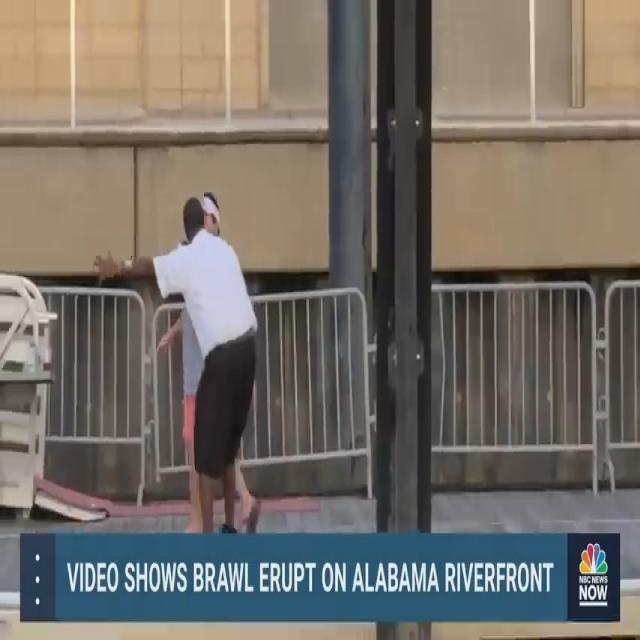non-fight: (80, 183, 285, 541)
